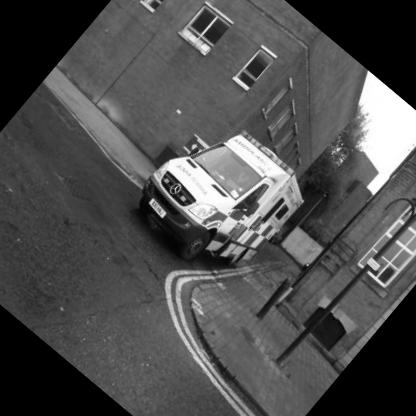ambulance: (111, 90, 331, 311)
